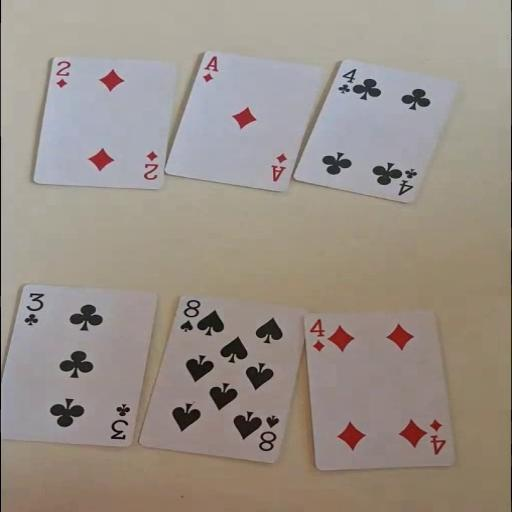2: (140, 148, 160, 180), (53, 59, 72, 89)
3: (21, 290, 46, 327), (108, 402, 132, 440)
4: (426, 417, 448, 456), (394, 166, 418, 196), (306, 316, 326, 352), (334, 67, 358, 94)
8: (255, 413, 281, 452), (177, 297, 202, 333)
A: (269, 151, 290, 183), (199, 54, 219, 83)
